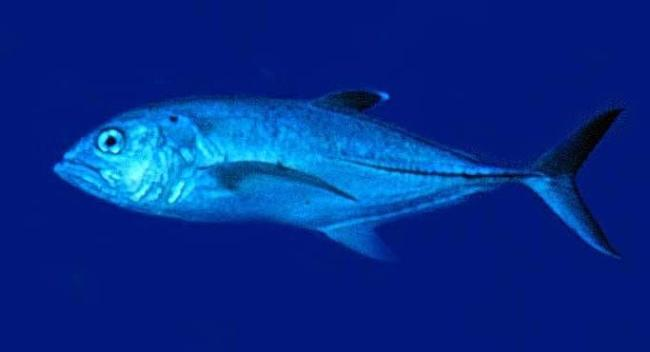fish: (54, 90, 626, 264)
